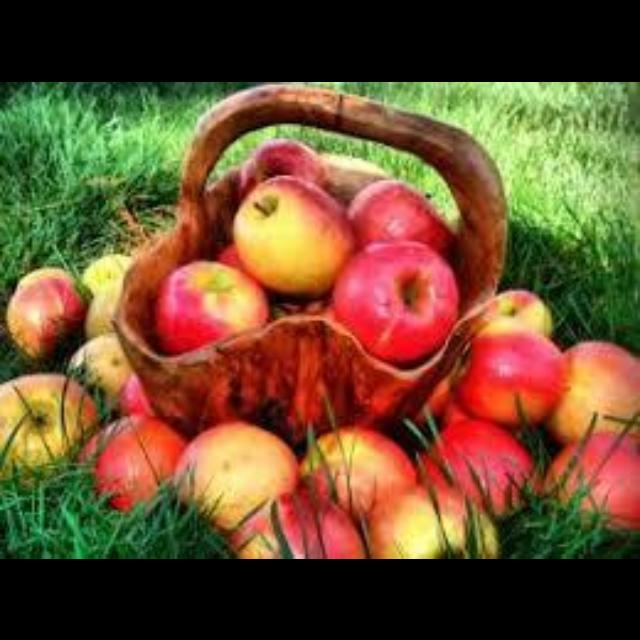apple: (332, 241, 455, 362), (234, 175, 354, 295), (175, 421, 298, 529), (453, 317, 566, 426), (153, 258, 266, 352), (421, 418, 532, 512), (300, 426, 414, 517), (79, 413, 185, 509), (0, 371, 96, 475), (546, 339, 638, 443), (367, 485, 497, 556), (544, 431, 638, 529), (347, 179, 450, 251), (5, 268, 84, 354), (239, 138, 325, 194)
